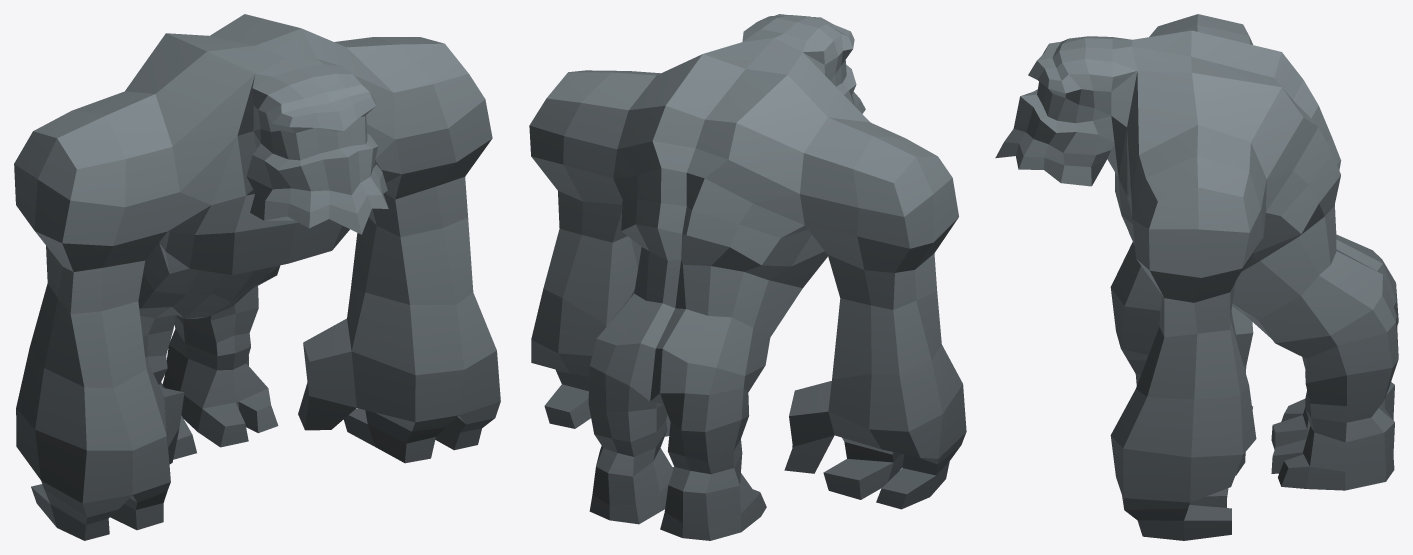
File: golem.glb
3 renders of one model, left to right at view 1: azimuth 30°, elevation 25°; view 2: azimuth 150°, elevation 25°; view 3: azimuth 270°, elevation 25°, orthographic. The views are drawn at different scales.
Parts seen in each view (by area): view 1: golem; view 2: golem; view 3: golem.
Part boxes in pixels (x1,y1,x2,y2): golem: [14, 14, 500, 540]; golem: [529, 14, 966, 540]; golem: [995, 14, 1398, 540].
Bounding box in the file's own units: 2.56 × 2.5 × 2.22.
1 material, 1 textured.
